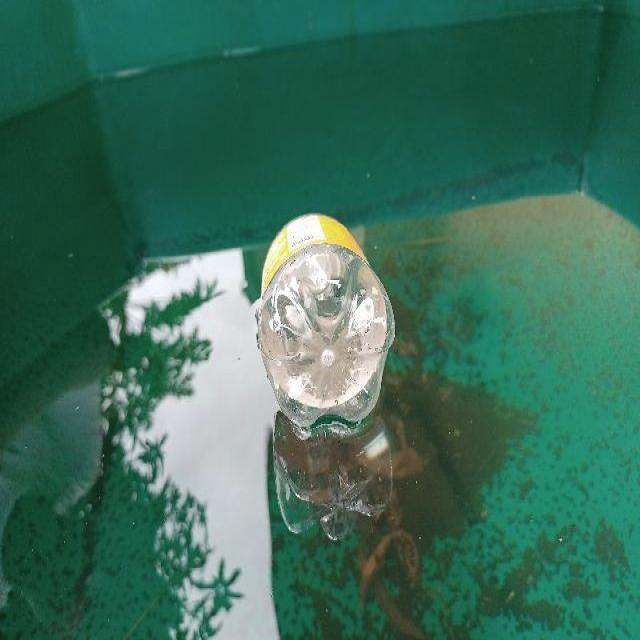Plastic: (254, 206, 402, 437)
